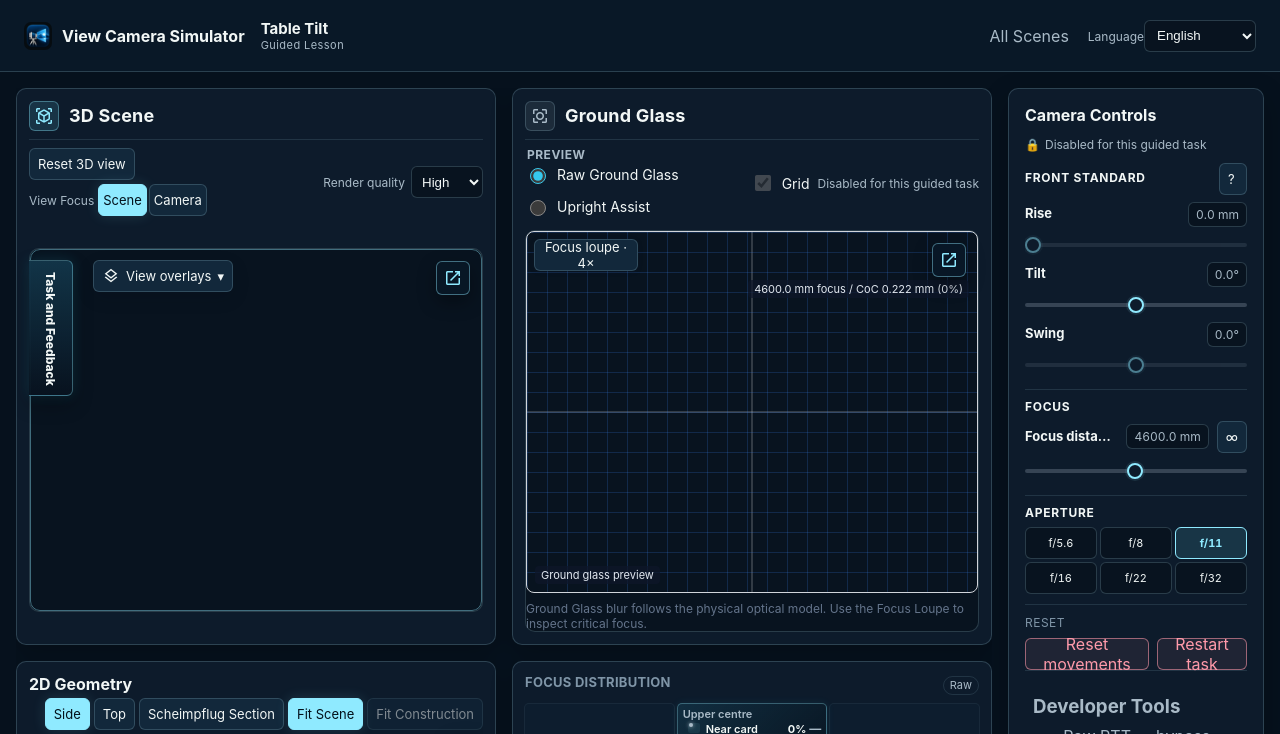
it: simulator header › updates both header context lines when the locale changes
Expected: the text "Table Tilt" is shown, [261,18,328,38]
Expected: the text "Guided Lesson" is shown, [261,38,344,52]
Select "繁體中文" in the dropdown labelled "Language" at x=1200, y=36, box [1144,20,1256,52]
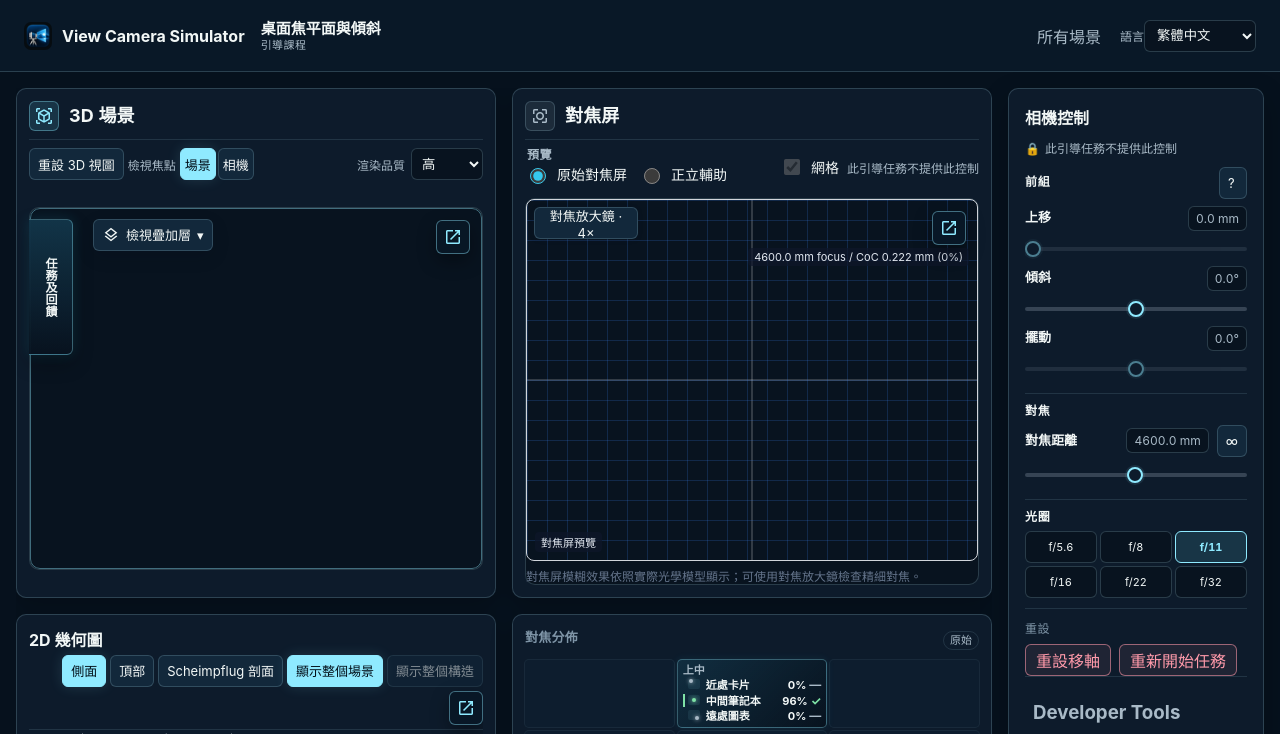
Expected: the text "桌面焦平面與傾斜" is shown, [261,18,381,38]
Expected: the text "引導課程" is shown, [261,38,306,52]
Expected: the text "Table Tilt" is gone
